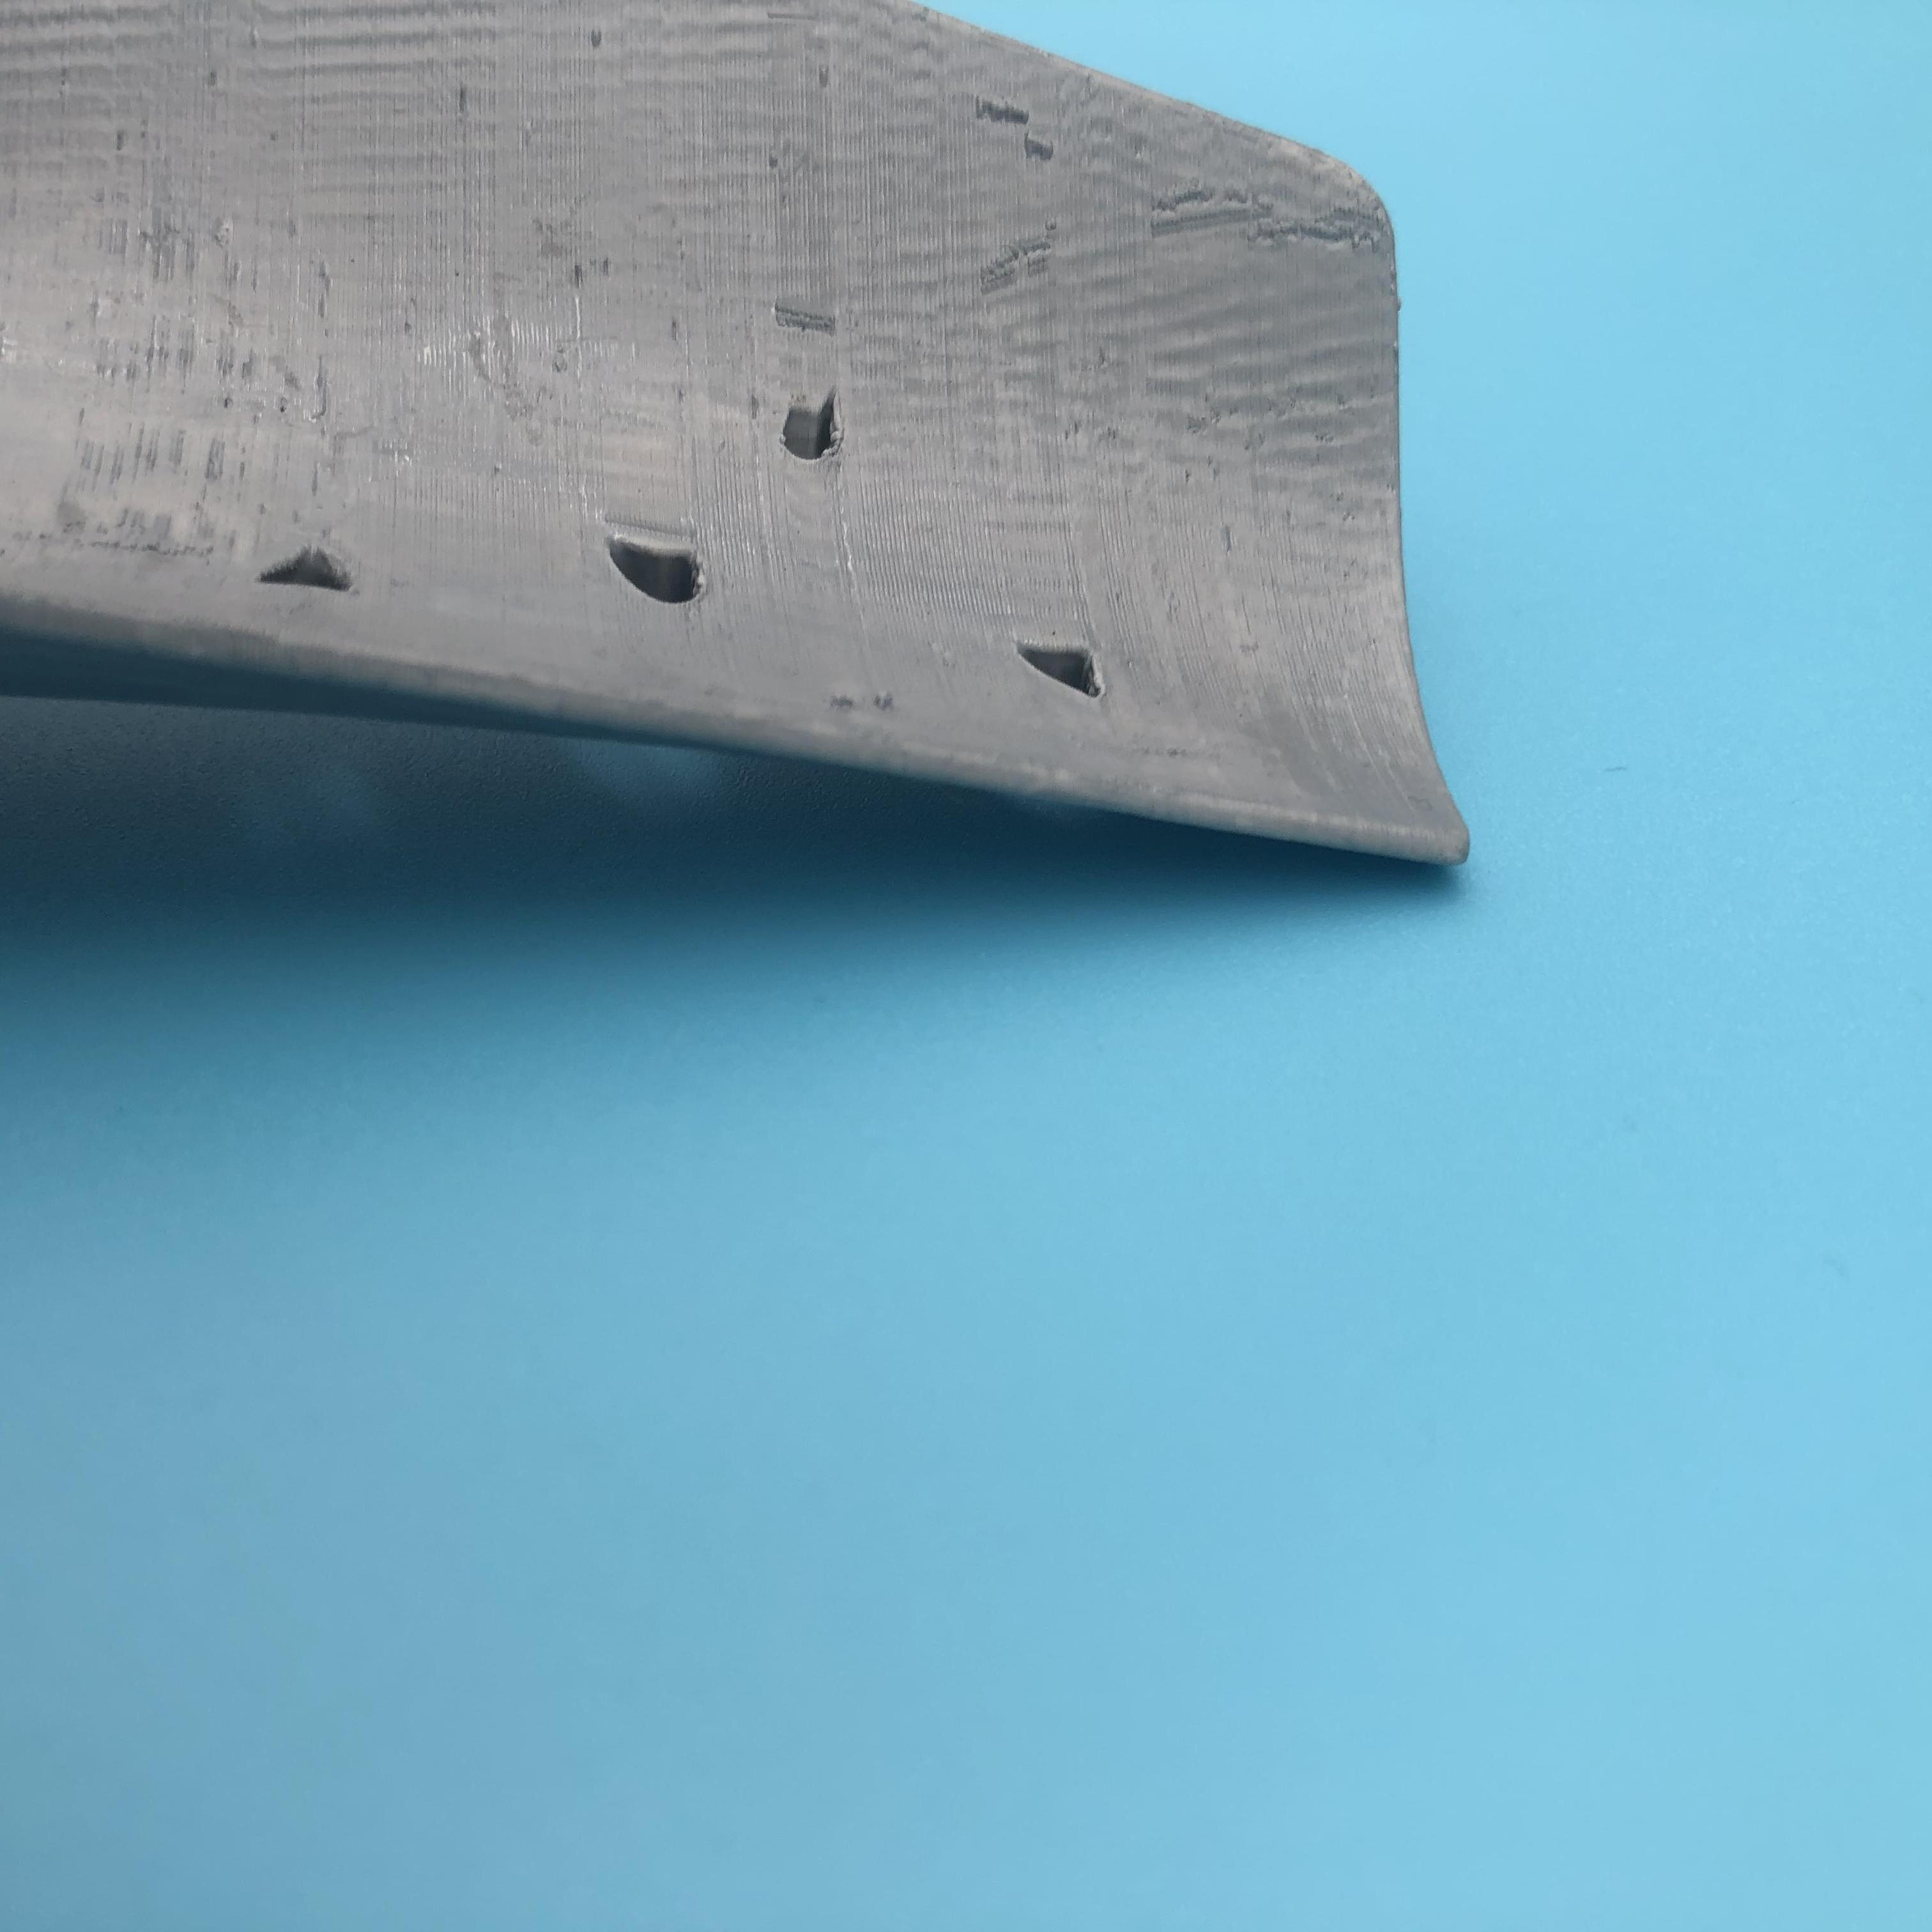breakdown: (603, 517, 722, 614), (1024, 616, 1116, 725), (773, 396, 872, 472), (262, 538, 368, 600)
